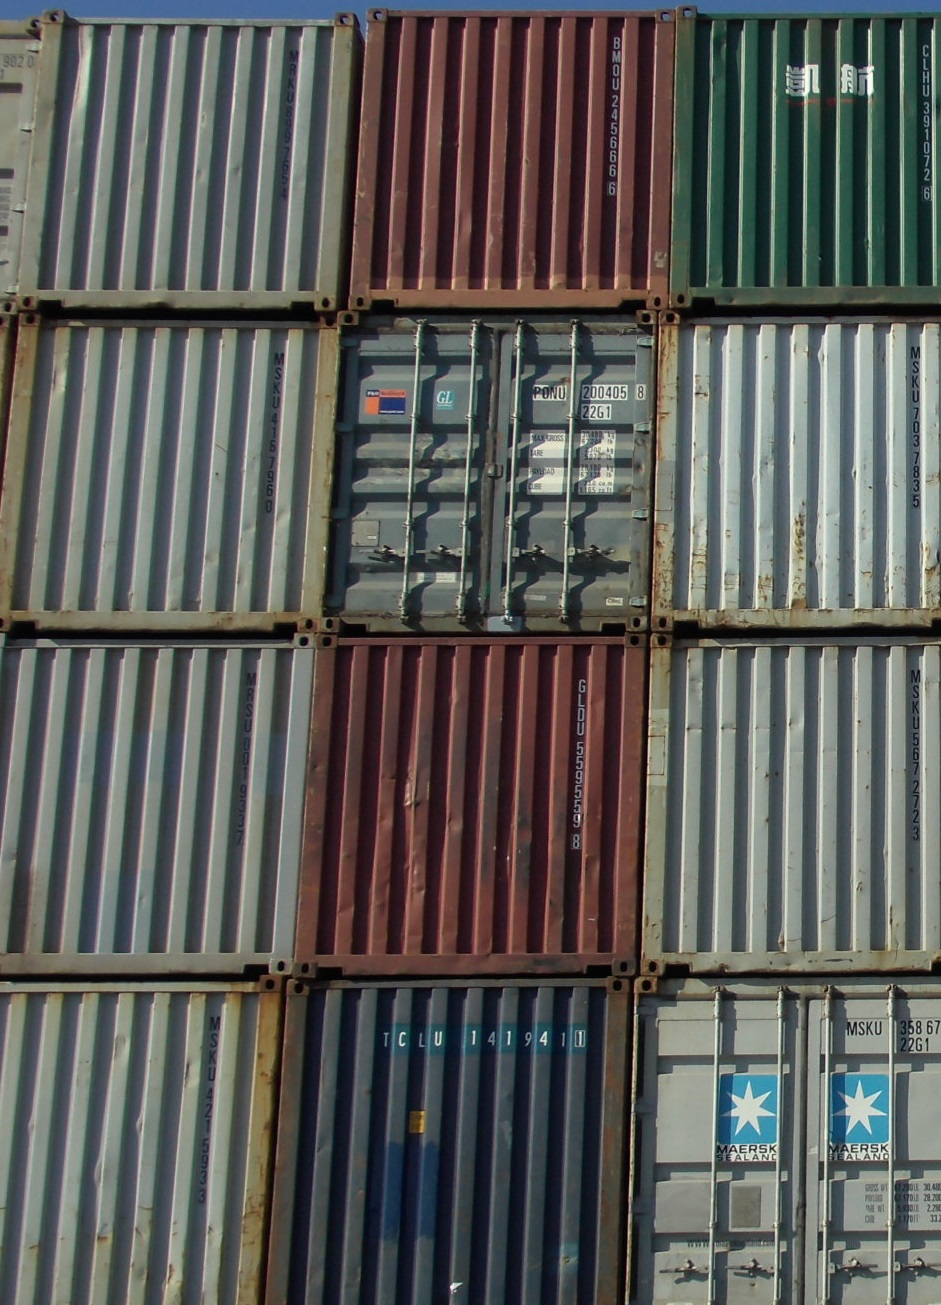container_door: (627, 973, 941, 1305), (337, 305, 650, 636)
container_no_door: (292, 638, 633, 976), (278, 974, 627, 1295), (1, 634, 298, 981), (342, 8, 674, 311), (10, 313, 325, 631), (645, 636, 941, 975), (17, 11, 357, 306), (1, 975, 280, 1305), (653, 312, 941, 626), (677, 6, 941, 311)
